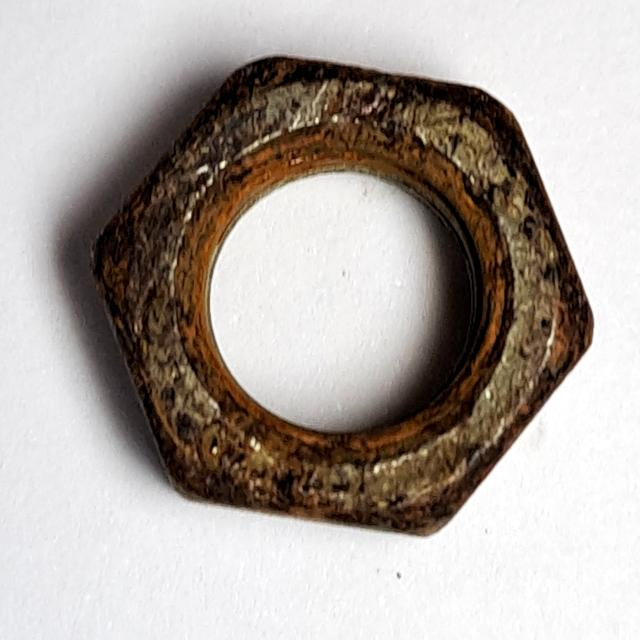Rust: (72, 34, 605, 551)
